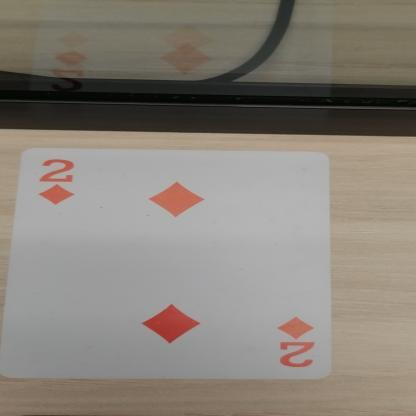2D: (254, 308, 335, 376), (21, 150, 108, 210)
